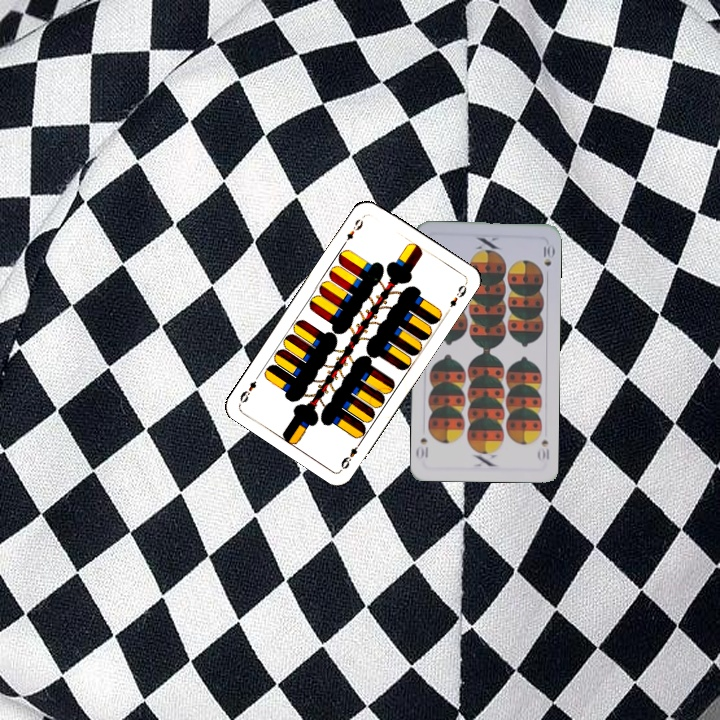E9: (337, 436, 365, 472), (339, 215, 366, 248)
S10: (534, 436, 552, 463)
